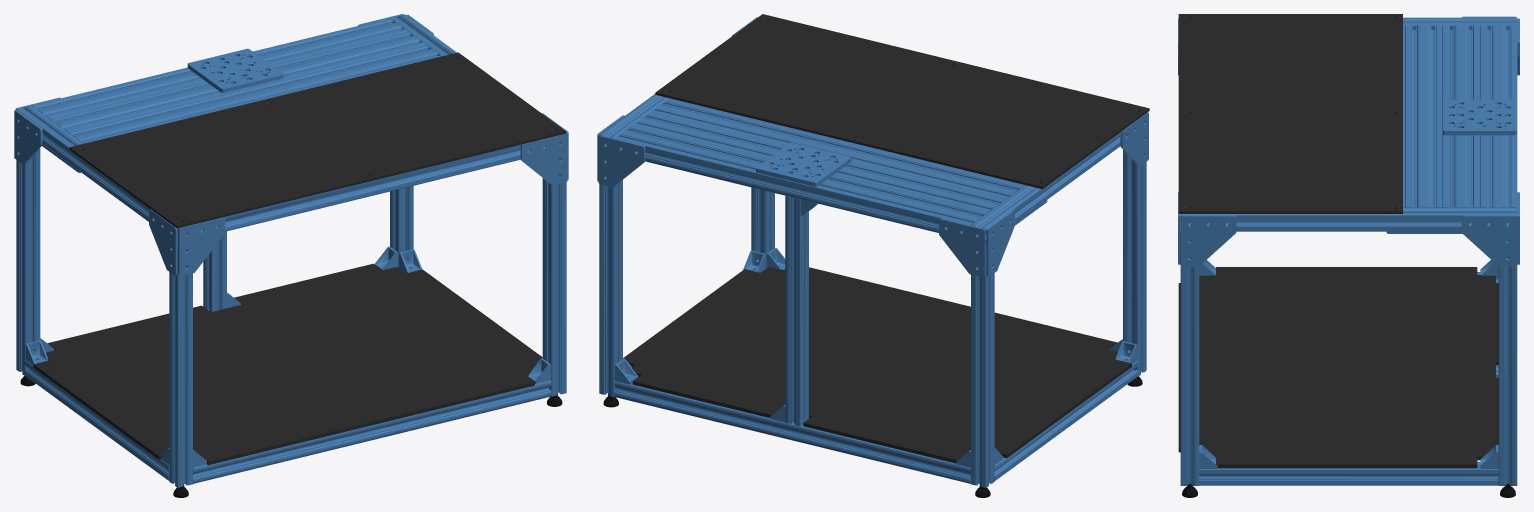
The model's file is vention-workstation.glb.
3 views of the same model, side by side, from view 1: azimuth 30°, elevation 25°; view 2: azimuth 150°, elevation 25°; view 3: azimuth 270°, elevation 25° (orthographic). The views are drawn at different scales.
Parts seen in each view (by area): view 1: Workstation Frame, imported-PANEL-67E548DCAA65_583234, imported-PANEL-67E548DCAA65_583234.001, Solid_2; view 2: Workstation Frame, imported-PANEL-67E548DCAA65_583234, imported-PANEL-67E548DCAA65_583234.001, Solid_2; view 3: imported-PANEL-67E548DCAA65_583234, imported-PANEL-67E548DCAA65_583234.001, Workstation Frame, Solid_2.
Part boxes in pixels (x1,y1,x2,y2): Workstation Frame: (14, 14, 568, 487); imported-PANEL-67E548DCAA65_583234: (33, 263, 541, 465); imported-PANEL-67E548DCAA65_583234.001: (69, 52, 566, 228); Solid_2: (187, 48, 283, 93); Workstation Frame: (597, 17, 1148, 487); imported-PANEL-67E548DCAA65_583234: (624, 267, 1131, 463); imported-PANEL-67E548DCAA65_583234.001: (655, 14, 1149, 189); Solid_2: (756, 142, 851, 186); imported-PANEL-67E548DCAA65_583234: (1178, 267, 1498, 468); imported-PANEL-67E548DCAA65_583234.001: (1178, 14, 1402, 213); Workstation Frame: (1178, 16, 1519, 485); Solid_2: (1443, 99, 1516, 135).
Bounding box in the file's own units: 1.14 × 0.7662 × 0.822.
Materials: 4 (4 with a texture image).
